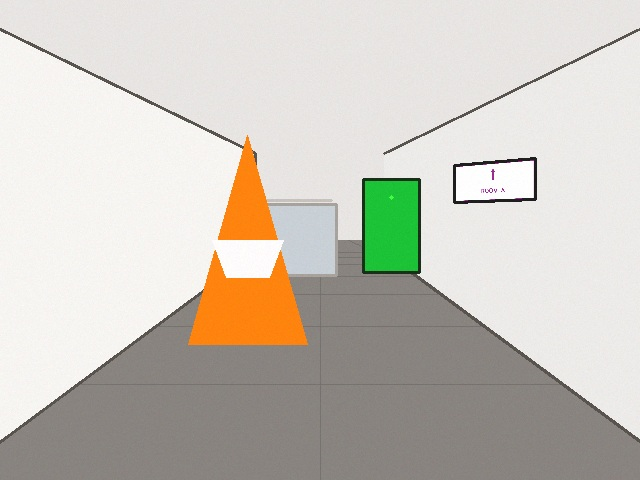charging_station: (363, 179, 419, 272)
directional_sign: (454, 158, 535, 202)
hospital_bed: (233, 204, 336, 275)
obstacle: (188, 135, 307, 344)
